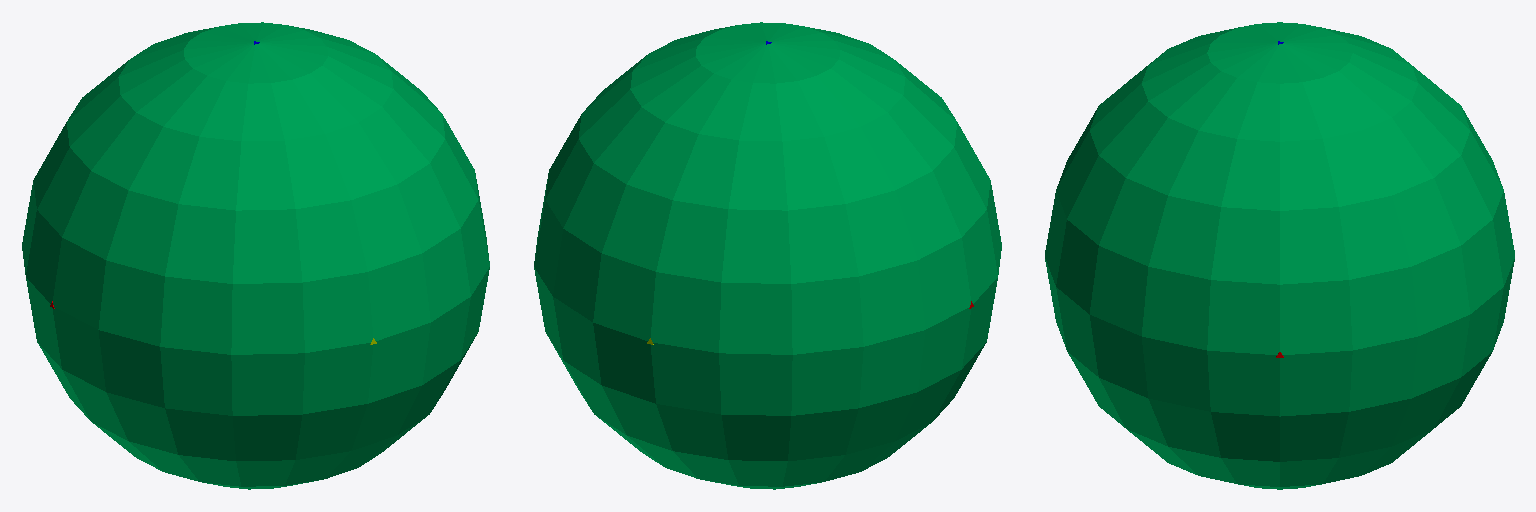
Rendered from map.obj.
The picture shows the model from 3 angles: view 1: azimuth 30°, elevation 25°; view 2: azimuth 150°, elevation 25°; view 3: azimuth 270°, elevation 25°; orthographic projection.
Parts seen in each view (by area): view 1: Sphere; view 2: Sphere; view 3: Sphere.
Part boxes in pixels (x1,y1,x2,y2): Sphere: (22, 22, 489, 489); Sphere: (534, 22, 1001, 489); Sphere: (1045, 22, 1514, 489).
Size of the model in its own units: 2 by 2 by 2.